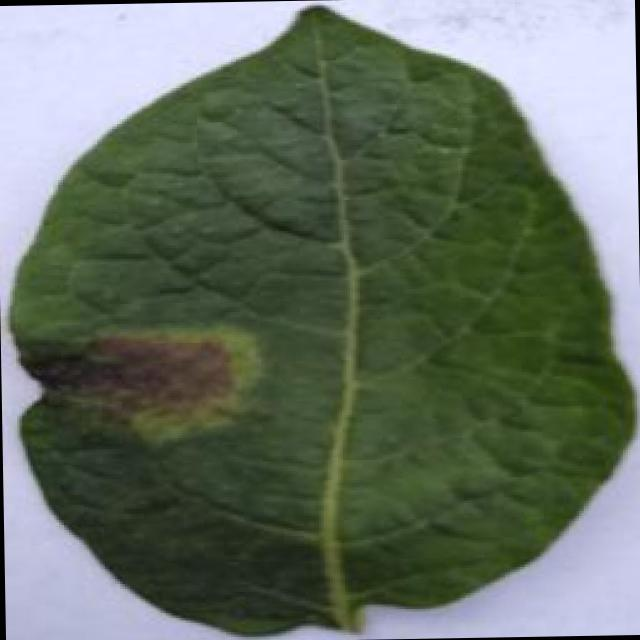Potato_Late_Blight: (0, 5, 638, 640)
